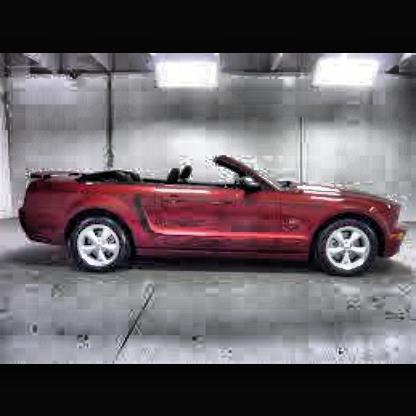Ford Mustang Convertible 2007: (20, 155, 408, 277)
